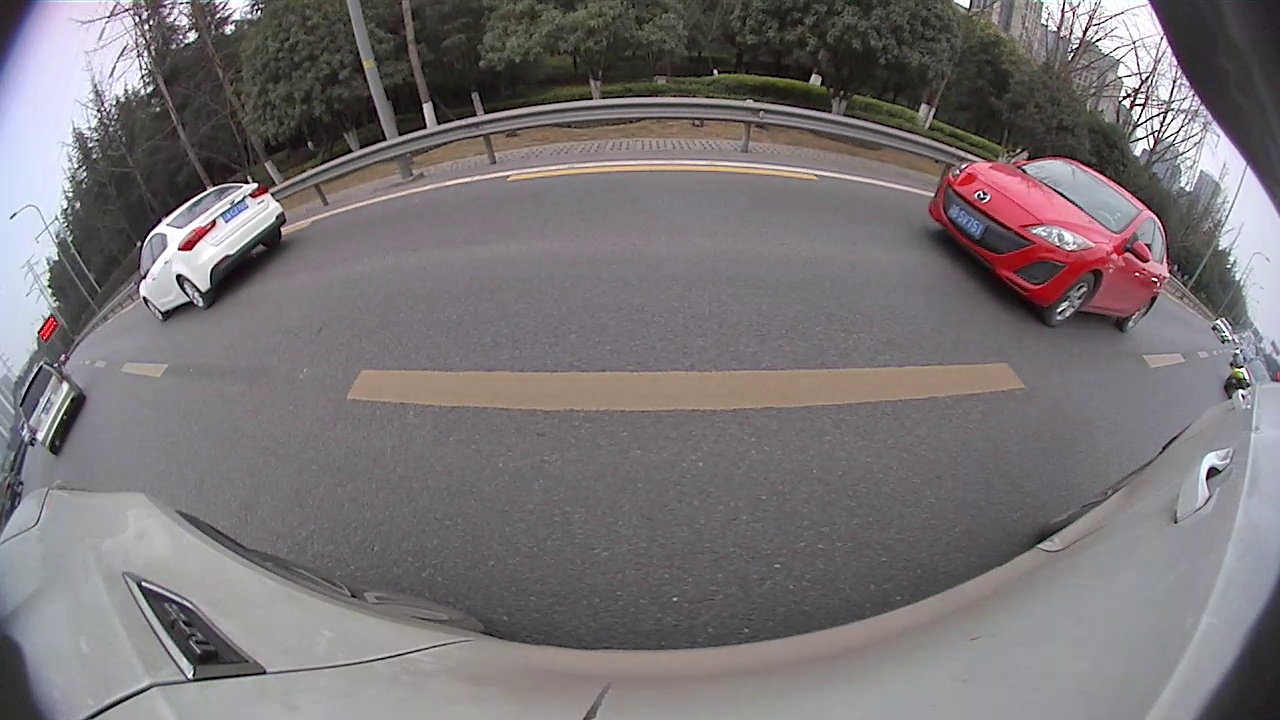car: (926, 153, 1170, 335), (137, 179, 289, 324), (16, 357, 87, 457)
front: (1044, 276, 1095, 327), (145, 299, 164, 321)
rear: (1123, 301, 1153, 333), (178, 279, 207, 309)
